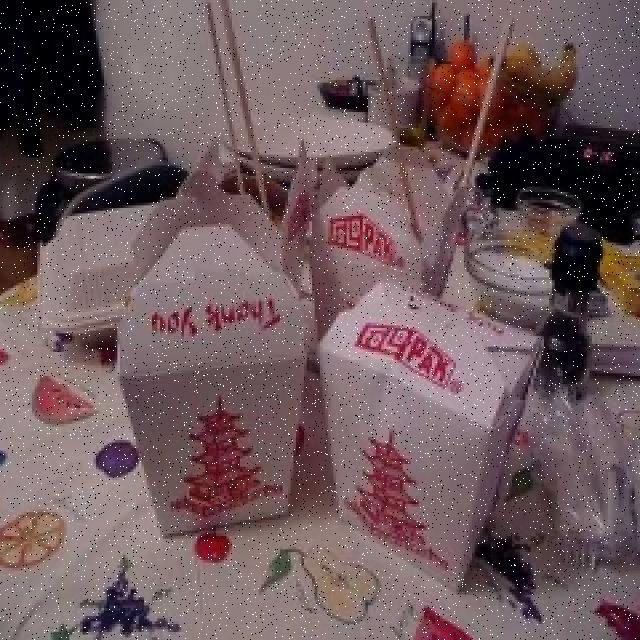box: (322, 293, 520, 585), (116, 267, 310, 522), (319, 160, 482, 337), (189, 142, 337, 328)
